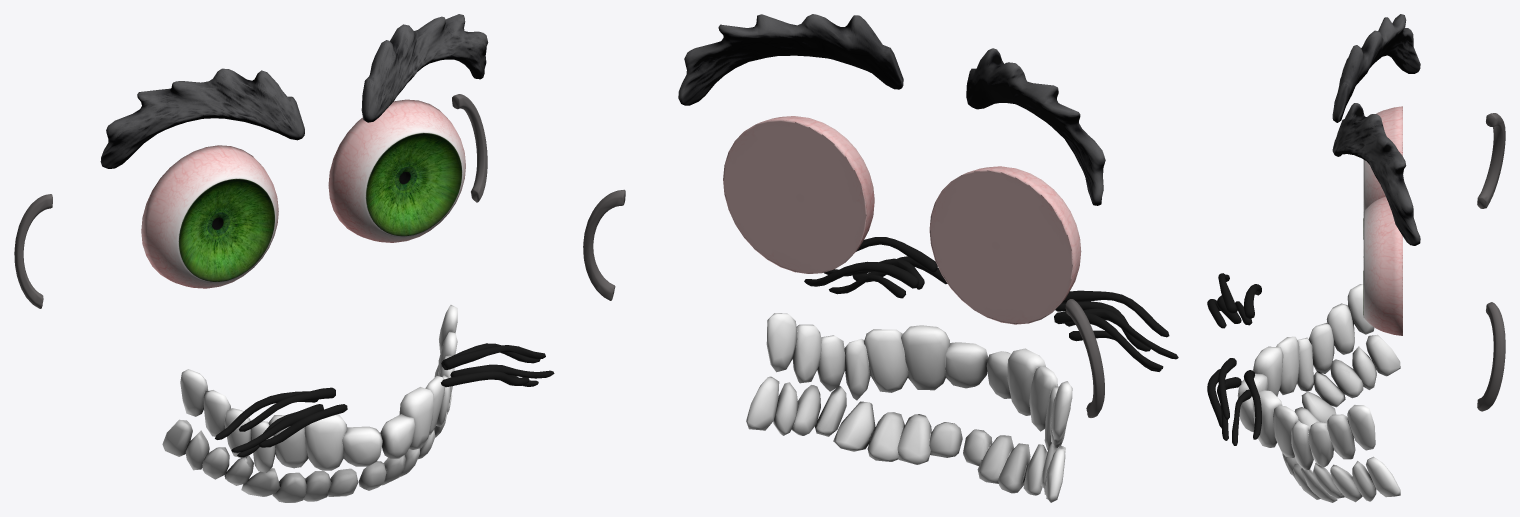
The model's file is creepy_cat.gltf.
3 views of the same model, side by side, from view 1: azimuth 30°, elevation 25°; view 2: azimuth 150°, elevation 25°; view 3: azimuth 270°, elevation 25° (orthographic). The views are drawn at different scales.
Parts seen in each view (by area): view 1: eyes, Group10022.001, Group44309, Group50397, Group62066; view 2: eyes, Group10022.001, Group44309, Group50397, Group62066; view 3: Group10022.001, Group44309, eyes, Group50397, Group62066.
Part boxes in pixels (x1,y1,x2,y2): eyes: (141,99,465,288); Group10022.001: (162,305,457,502); Group44309: (100,14,488,168); Group50397: (215,343,554,457); Group62066: (14,94,487,308); eyes: (723,116,1081,324); Group10022.001: (746,313,1072,502); Group44309: (678,14,1105,205); Group50397: (804,237,1178,371); Group62066: (583,189,1104,417); Group10022.001: (1237,284,1400,502); Group44309: (1332,14,1420,245); eyes: (1363,106,1402,335); Group50397: (1207,273,1261,445); Group62066: (1477,113,1505,411).
Bounding box in the file's own units: 211 × 180 × 122.
Materials: 5 (3 with a texture image).
